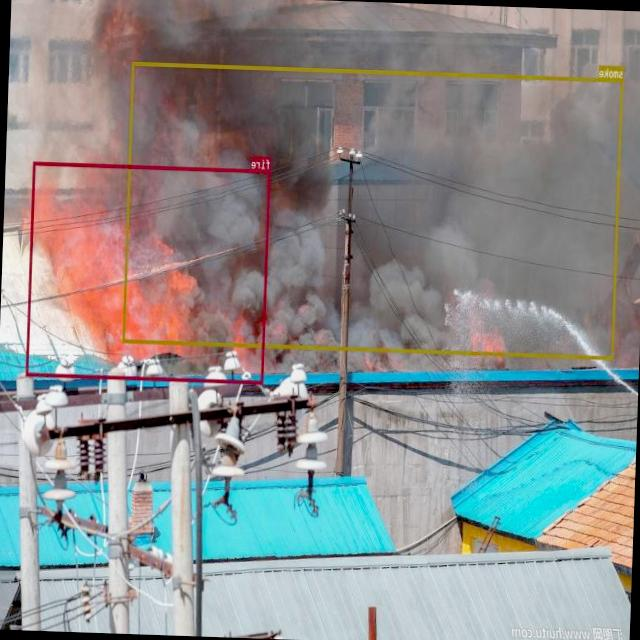fire: (26, 160, 271, 384)
smoke: (122, 61, 624, 359)
